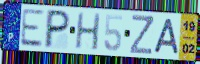5: (103, 14, 124, 53)
A: (152, 18, 180, 56)
E: (19, 8, 45, 49)
H: (74, 11, 102, 52)
P: (42, 8, 72, 50)
Z: (129, 14, 154, 56)
